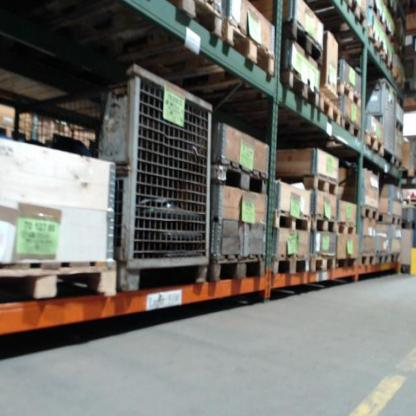pallet: (110, 20, 278, 99), (0, 256, 120, 304), (113, 1, 226, 44), (276, 18, 325, 67), (207, 159, 271, 196), (295, 2, 368, 33), (204, 248, 264, 284), (278, 69, 322, 113), (341, 30, 388, 66), (275, 172, 339, 198), (333, 78, 366, 110), (271, 253, 312, 278), (319, 89, 342, 133), (271, 209, 311, 233), (359, 3, 388, 30), (340, 113, 363, 145), (310, 215, 337, 240), (365, 131, 387, 158), (313, 251, 336, 274), (353, 248, 376, 270), (389, 113, 407, 138), (358, 203, 379, 224), (379, 213, 404, 229), (335, 253, 356, 272), (337, 218, 357, 237), (394, 66, 407, 94), (384, 55, 395, 87), (387, 249, 404, 269), (391, 153, 408, 170), (375, 249, 388, 268)
stillage: (8, 61, 214, 293), (361, 72, 395, 162), (402, 55, 415, 93)
